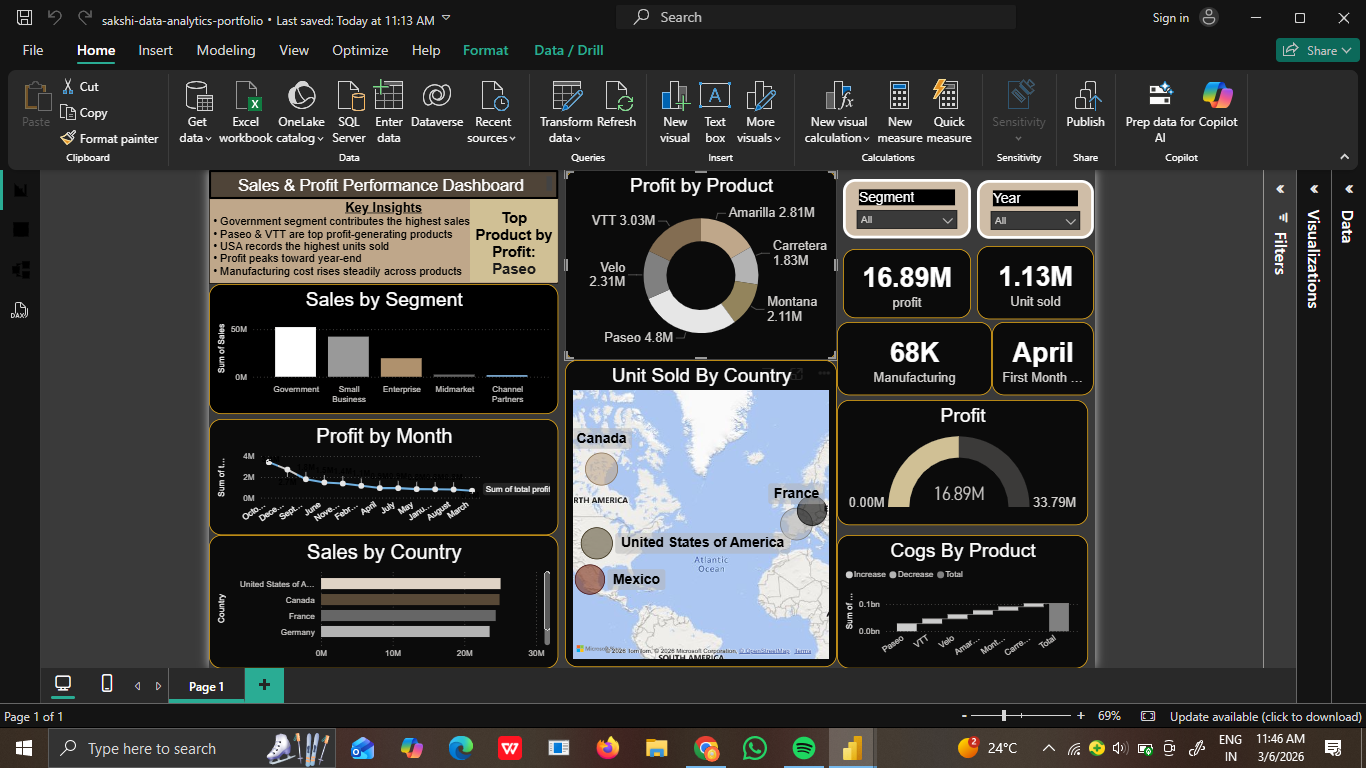

The dashboard page shown, as its layout file describes it:
{"tool":"powerbi","page":{"name":"Page 1","canvas":[1280,720],"ordinal":0},"visuals":[{"type":"columnChart","title":" Sales by Segment","fields":{"Category":["financials.Segment"],"Y":["Sum(financials. Sales)"]},"box":[0,164.4,505.1,188.1],"z":0},{"type":"donutChart","title":"Profit by Product","fields":{"Y":["Sum(financials.Profit)"],"Series":["financials.Product"]},"box":[515.3,0,393.2,274.6],"z":1000},{"type":"lineChart","title":" Profit by Month ","fields":{"Category":["financials.Month Name"],"Y":["Sum(financials.Profit)"]},"box":[0,359.3,505.1,167.8],"z":2000},{"type":"card","fields":{"Values":["financials.Manufacturing"]},"box":[908,219.8,224.1,105.5],"z":3000},{"type":"card","fields":{"Values":["financials.Unit sold"]},"box":[1111,109.2,169,105.6],"z":4000},{"type":"card","fields":{"Values":["financials.profit"]},"box":[917.3,114.4,184.9,100.4],"z":5000},{"type":"slicer","fields":{"Values":["financials.Segment"]},"box":[917.3,12.3,184.9,86.3],"z":6000},{"type":"slicer","fields":{"Values":["financials.Year"]},"box":[1111,14.1,169,84.5],"z":7000},{"type":"map","title":"Unit Sold By Country","fields":{"Category":["financials.Country"],"Size":["Sum(financials.Units Sold)"]},"box":[515.3,274.6,393.2,444.1],"z":8000},{"type":"barChart","title":"  Sales by Country","fields":{"Category":["financials.Country"],"Y":["Sum(financials. Sales)"]},"box":[0,527.1,505.1,193.2],"z":9000},{"type":"card","fields":{"Values":["Min(financials.Month Name)"]},"box":[1132,219.8,147.5,105.5],"z":10000},{"type":"gauge","title":"Profit ","fields":{"Y":["Sum(financials.Profit)"]},"box":[908.5,332.2,362.7,181.4],"z":11000},{"type":"waterfallChart","title":"Cogs By Product","fields":{"Category":["financials.Product"],"Y":["Sum(financials.COGS)"]},"box":[908.5,527.1,362.7,193.2],"z":12000},{"type":"textbox","box":[0,37.3,505.1,127.1],"z":12500},{"type":"textbox","box":[0,0,505.1,42.4],"z":13000},{"type":"textbox","box":[378,42.4,127.1,120.3],"z":15000}]}

Visuals, with their boxes on the page's 1280x720 design canvas (x1, y1, x2, y2). These are canvas units, not pixel positions in the 1366x768 screenshot, which may show the page scaled, cropped or inside an application window:
" Sales by Segment" columnChart: (x1=0, y1=164, x2=505, y2=352)
"Profit by Product" donutChart: (x1=515, y1=0, x2=908, y2=275)
" Profit by Month " lineChart: (x1=0, y1=359, x2=505, y2=527)
card - financials.Manufacturing: (x1=908, y1=220, x2=1132, y2=325)
card - financials.Unit sold: (x1=1111, y1=109, x2=1280, y2=215)
card - financials.profit: (x1=917, y1=114, x2=1102, y2=215)
slicer - financials.Segment: (x1=917, y1=12, x2=1102, y2=99)
slicer - financials.Year: (x1=1111, y1=14, x2=1280, y2=99)
"Unit Sold By Country" map: (x1=515, y1=275, x2=908, y2=719)
"  Sales by Country" barChart: (x1=0, y1=527, x2=505, y2=720)
card - Min(financials.Month Name): (x1=1132, y1=220, x2=1280, y2=325)
"Profit " gauge: (x1=908, y1=332, x2=1271, y2=514)
"Cogs By Product" waterfallChart: (x1=908, y1=527, x2=1271, y2=720)
textbox: (x1=0, y1=37, x2=505, y2=164)
textbox: (x1=0, y1=0, x2=505, y2=42)
textbox: (x1=378, y1=42, x2=505, y2=163)
